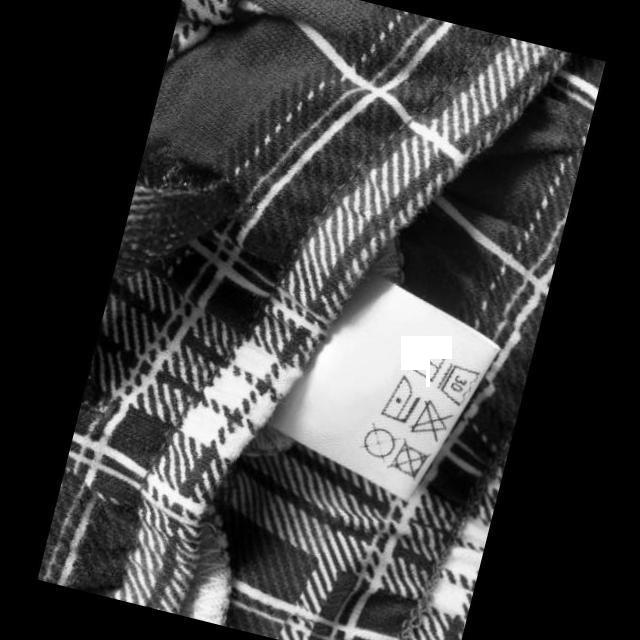30C: (430, 359, 481, 410)
DN_bleach: (406, 394, 458, 446)
DN_dry_clean: (352, 418, 406, 468)
DN_tumble_dry: (382, 434, 434, 485)
iron_low: (376, 370, 425, 428)
